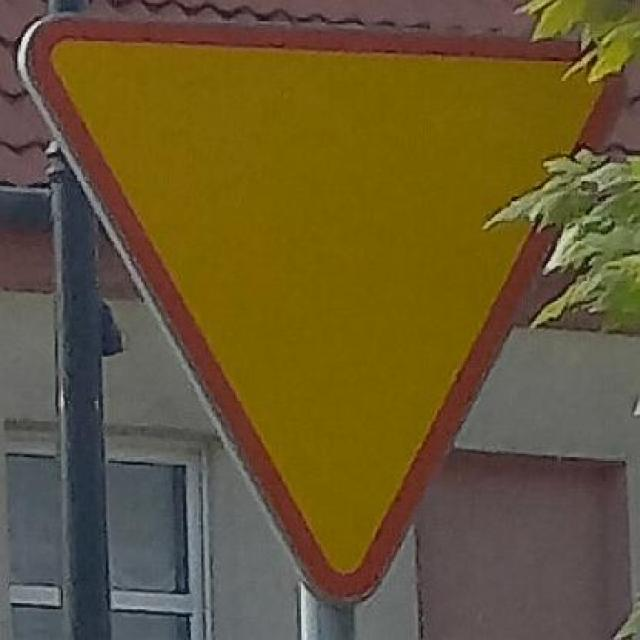Ustap pierwszenstwa: (22, 17, 627, 606)
